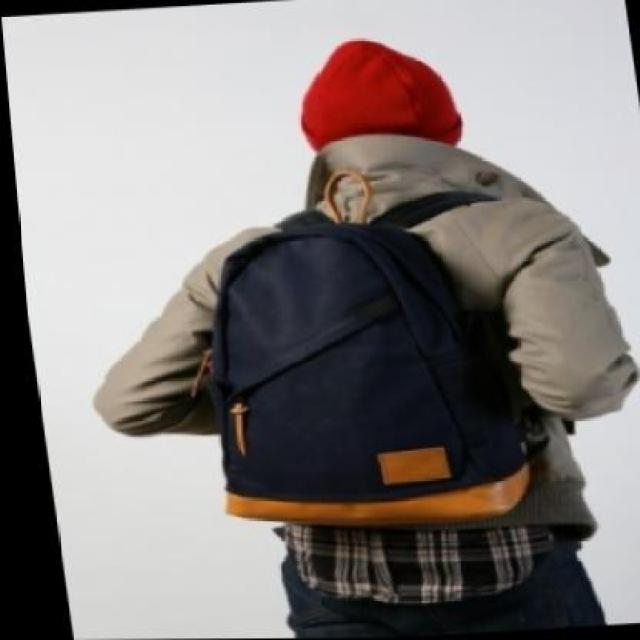hat: (280, 27, 475, 156)
